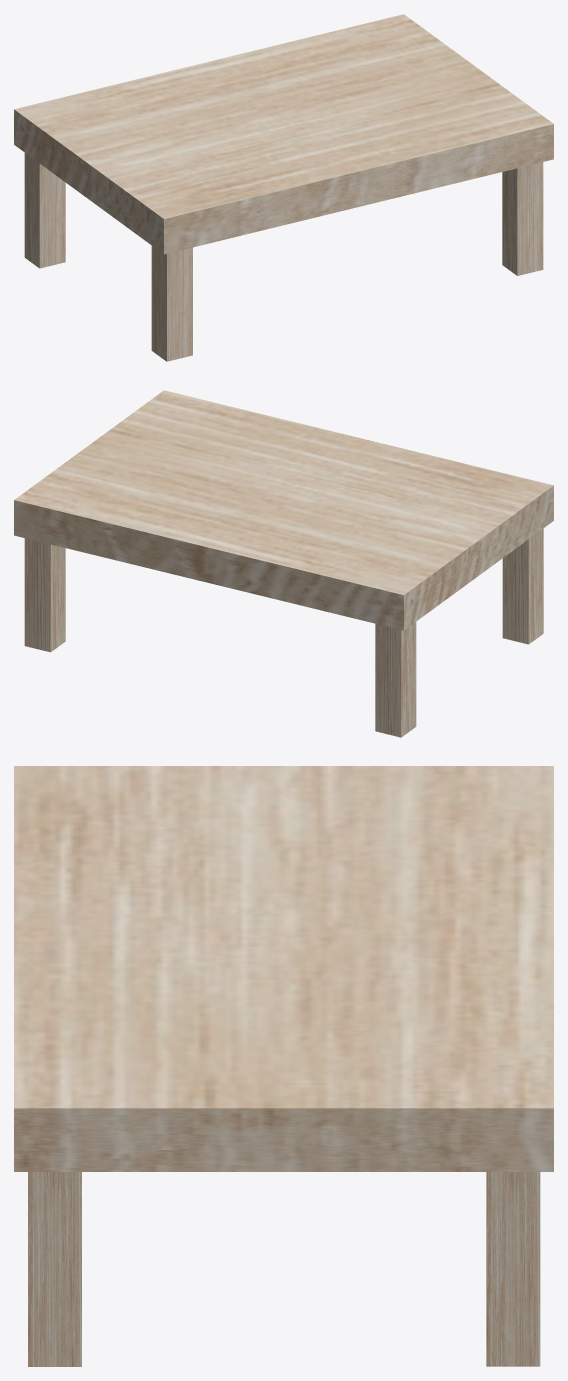
Rendered from MejaKecil_kayu.gltf.
3 views of the same model, one above another, from view 1: azimuth 30°, elevation 25°; view 2: azimuth 150°, elevation 25°; view 3: azimuth 270°, elevation 25° (orthographic). The views are drawn at different scales.
Parts seen in each view (by area): view 1: Cube, Cube.003, Cube.001, Cube.004; view 2: Cube, Cube.004, Cube.002, Cube.003; view 3: Cube, Cube.002, Cube.001.
Part boxes in pixels (box(x1,y1,x2,y2)): Cube: box(14, 14, 553, 254); Cube.003: box(151, 246, 192, 361); Cube.001: box(502, 162, 543, 275); Cube.004: box(24, 153, 65, 268); Cube: box(14, 390, 553, 630); Cube.004: box(375, 622, 416, 737); Cube.002: box(24, 538, 65, 652); Cube.003: box(502, 528, 543, 644); Cube: box(14, 766, 553, 1171); Cube.002: box(486, 1172, 540, 1366); Cube.001: box(28, 1172, 81, 1366).
Size of the model in its own units: 6 by 2.16 by 4.
Materials: 5 (5 with a texture image).
